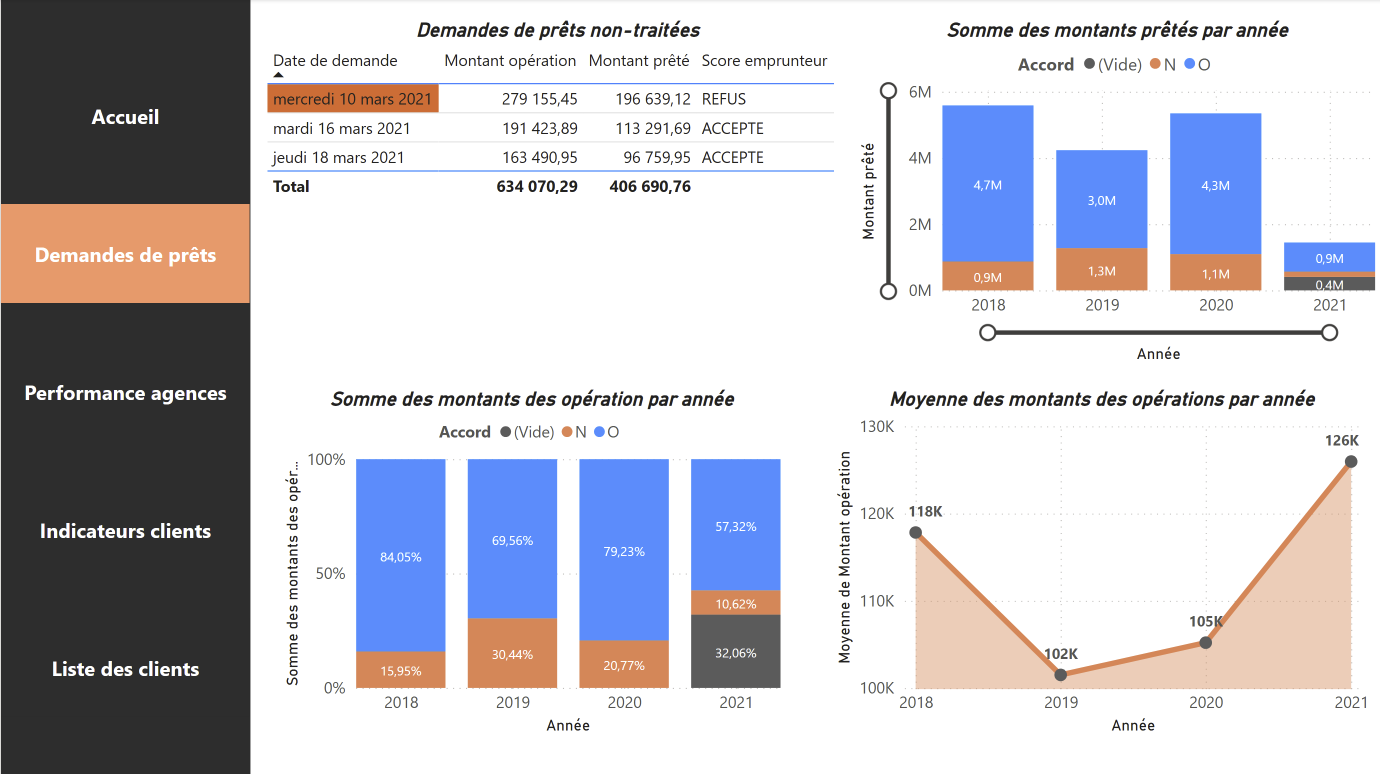

The page's visual inventory and layout, read from the dashboard file:
{"tool":"powerbi","page":{"name":"Demandes de prêts","canvas":[1280,720],"ordinal":1},"visuals":[{"type":"tableEx","title":"Demandes de prêts non-traitées","fields":{"Values":["Demandes de pret.Date de demande","Sum(Demandes de pret.Montant opération)","Demandes de pret.Montant prêté","Demandes de pret.Score emprunteur"]},"box":[241.3,17.5,550.8,296.8],"z":0},{"type":"pageNavigator","box":[0,62.2,231.7,607.3],"z":1000,"group":"g1"},{"type":"areaChart","title":"Moyenne des montants des opérations par année","fields":{"Category":["Demandes de pret.Date de demande.Variation.Hiérarchie de dates.Année"],"Y":["Avg(Demandes de pret.Montant opération)"],"Series":["Demandes de pret.Accord"]},"box":[769.8,360.3,504.8,327],"z":1000},{"type":"columnChart","title":"Somme des montants prêtés par année","fields":{"Series":["Demandes de pret.Accord"],"Category":["Demandes de pret.Date de demande.Variation.Hiérarchie de dates.Année","Demandes de pret.Date de demande.Variation.Hiérarchie de dates.Trimestre","Demandes de pret.Date de demande.Variation.Hiérarchie de dates.Mois","Demandes de pret.Date de demande.Variation.Hiérarchie de dates.Jour"],"Y":["Demandes de pret.Montant prêté"]},"box":[792.1,17.5,488.9,323.8],"z":2000},{"type":"hundredPercentStackedColumnChart","title":"Somme des montants des opération par année","fields":{"Category":["Demandes de pret.Date de demande.Variation.Hiérarchie de dates.Année"],"Y":["Sum(Demandes de pret.Montant opération)"],"Series":["Demandes de pret.Accord"]},"box":[257.1,360.3,471.4,327],"z":3000},{"type":"shape","box":[0,0,231.7,719.5],"z":3001},{"type":"group","id":"g1","title":"Groupe 2","box":[0,62.2,231.7,607.3],"z":3002}]}

Visuals, with their boxes in screenshot pixels (x1, y1, x2, y2), scaled from the page's 1280x720 canvas onto the 1380x774 screenshot:
"Demandes de prêts non-traitées" tableEx: {"left": 260, "top": 19, "right": 854, "bottom": 338}
pageNavigator: {"left": 0, "top": 67, "right": 250, "bottom": 720}
"Moyenne des montants des opérations par année" areaChart: {"left": 830, "top": 387, "right": 1374, "bottom": 739}
"Somme des montants prêtés par année" columnChart: {"left": 854, "top": 19, "right": 1379, "bottom": 367}
"Somme des montants des opération par année" hundredPercentStackedColumnChart: {"left": 277, "top": 387, "right": 785, "bottom": 739}
shape: {"left": 0, "top": 0, "right": 250, "bottom": 773}
"Groupe 2" group: {"left": 0, "top": 67, "right": 250, "bottom": 720}
